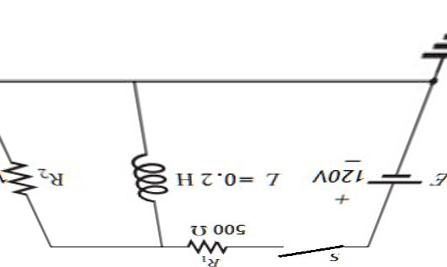inductor: (126, 138, 173, 215)
